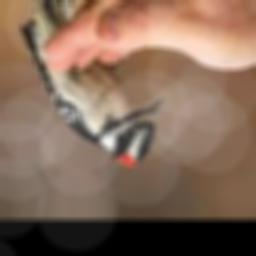Woodpecker: (20, 0, 164, 168)
